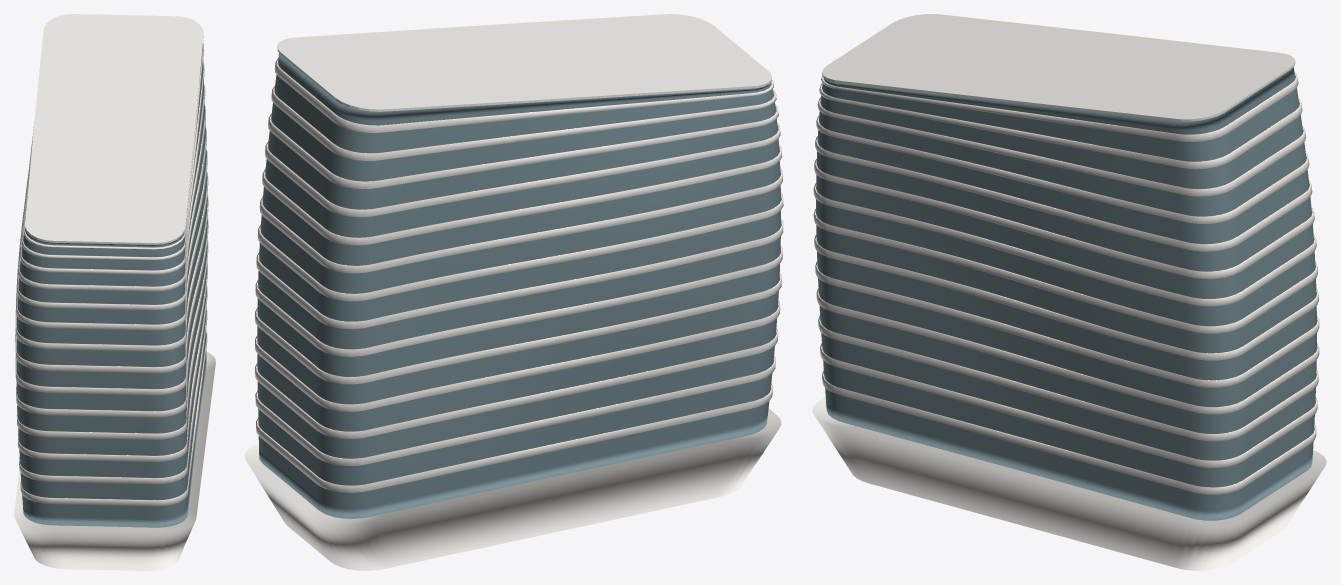
Rendered from jcit.glb.
3 views of the same model, side by side, from view 1: azimuth 30°, elevation 25°; view 2: azimuth 150°, elevation 25°; view 3: azimuth 270°, elevation 25° (orthographic). The views are drawn at different scales.
Visible parts, largest first — view 1: JCIT; view 2: JCIT; view 3: JCIT.
Part boxes in pixels (<box>): JCIT: <box>14,14,215,570</box>; JCIT: <box>244,14,783,570</box>; JCIT: <box>812,14,1326,570</box>.
Bounding box in the file's own units: 60.1 × 71.2 × 72.41.
